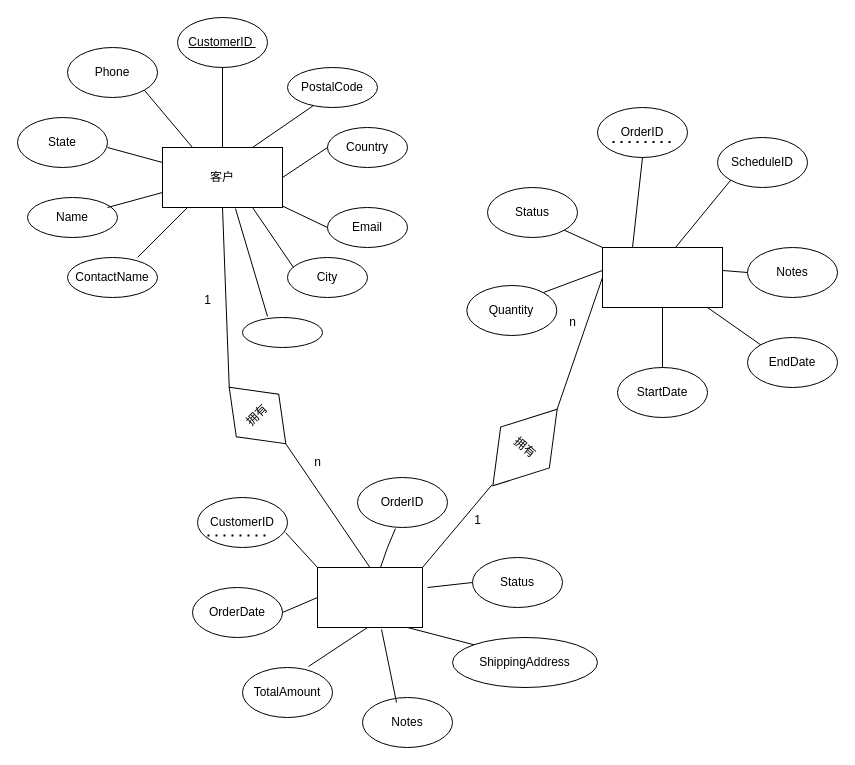
Image size: 855x765. Some labels were removed from this diagram. Here are the shapes that lost their labels. From the top down, the box of each, then its label:
(602, 246, 722, 308): 排产
(242, 316, 322, 348): Address
(316, 566, 422, 628): 订单
